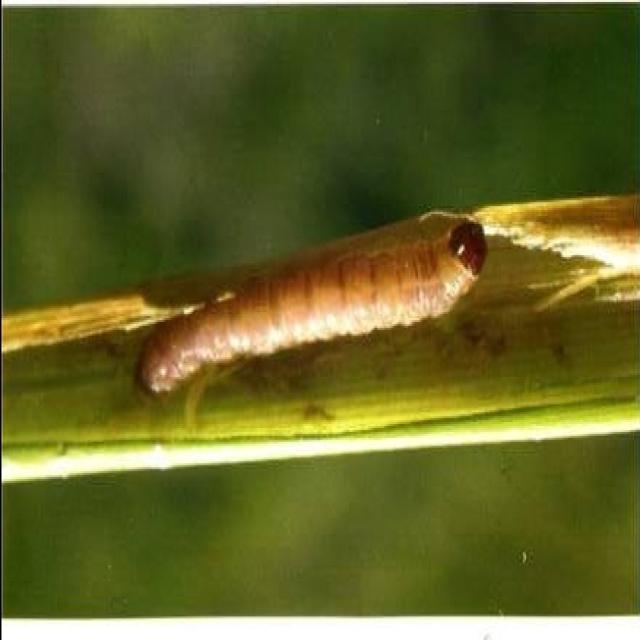peach borer: (131, 203, 485, 419)
